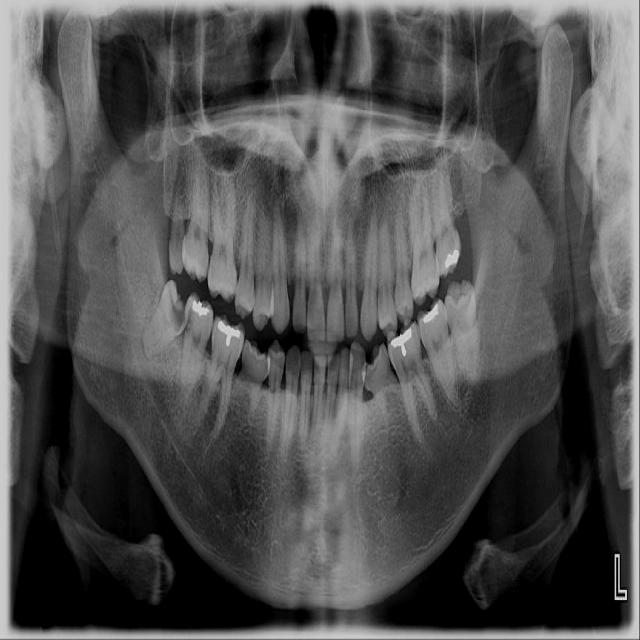Caries: (168, 300, 187, 335), (182, 306, 192, 340)
Filling: (390, 326, 413, 358), (216, 320, 243, 347), (189, 299, 212, 320), (422, 303, 442, 324), (443, 247, 459, 269)
impacted tooth: (445, 284, 480, 383), (143, 282, 186, 361)
